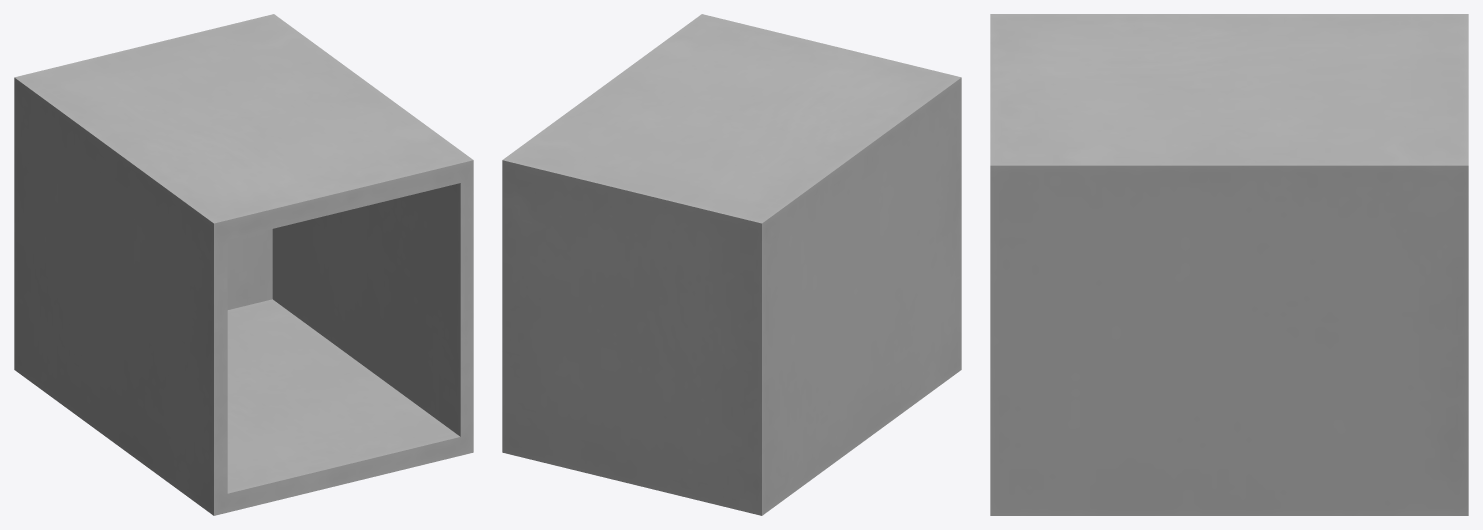
Rendered from SM_Cabinet__4.fbx.
The picture shows the model from 3 angles, left to right: view 1: azimuth 30°, elevation 25°; view 2: azimuth 150°, elevation 25°; view 3: azimuth 270°, elevation 25°; orthographic projection. The views are drawn at different scales.
Parts seen in each view (by area): view 1: Kitchen 4; view 2: Kitchen 4; view 3: Kitchen 4.
Part boxes in pixels (x1,y1,x2,y2): Kitchen 4: [14, 14, 473, 515]; Kitchen 4: [502, 14, 961, 515]; Kitchen 4: [990, 14, 1468, 515].
Bounding box in the file's own units: 1.34 × 1.45 × 1.79.
1 material, 1 textured.
